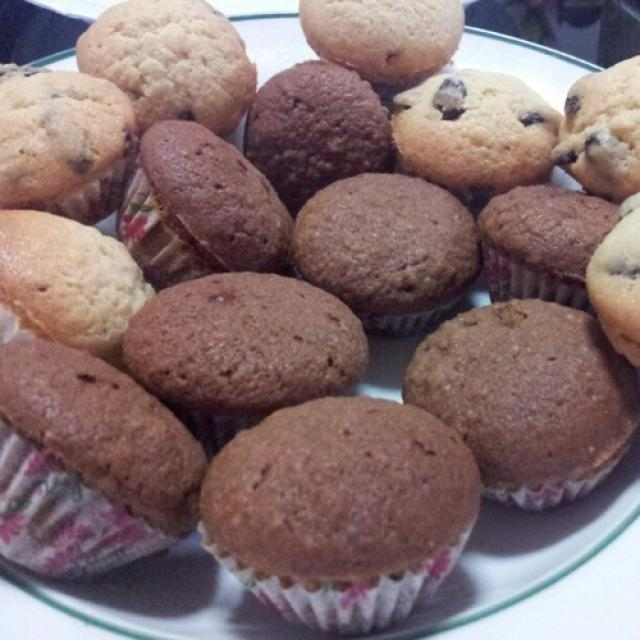炸货点心: (8, 13, 638, 621)
面包点心: (8, 13, 638, 621)
